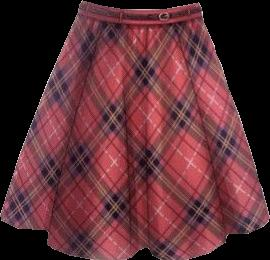Hemline: (0, 216, 269, 259)
Waistline: (74, 12, 202, 25), (80, 0, 201, 12)
